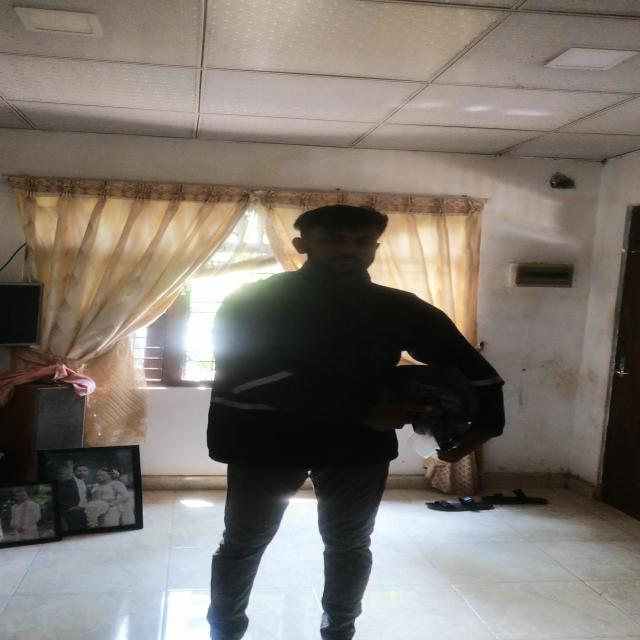Jacket_Wearer: (216, 278, 496, 486)
Person: (198, 197, 496, 640)
